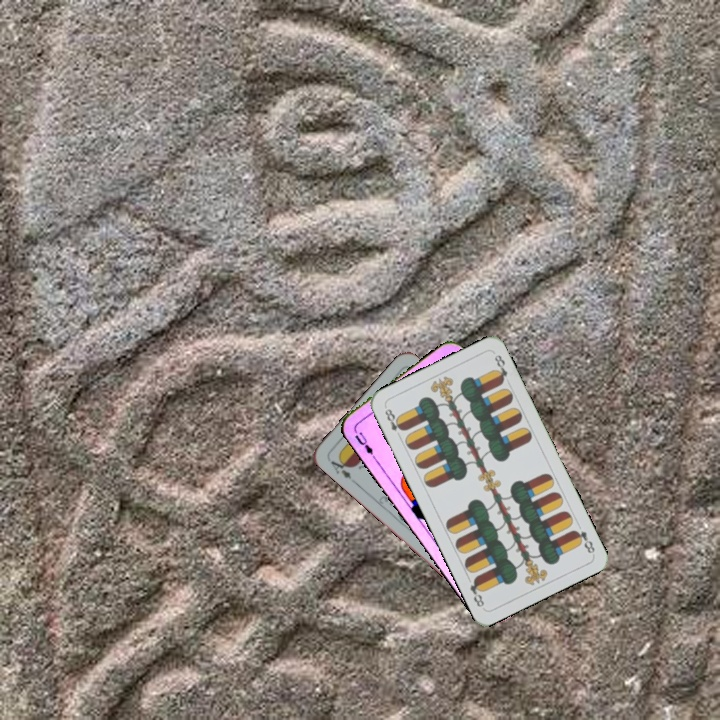E8: (381, 405, 407, 441), (569, 526, 597, 556)
EA: (325, 453, 354, 482)
EU: (350, 425, 378, 461)
